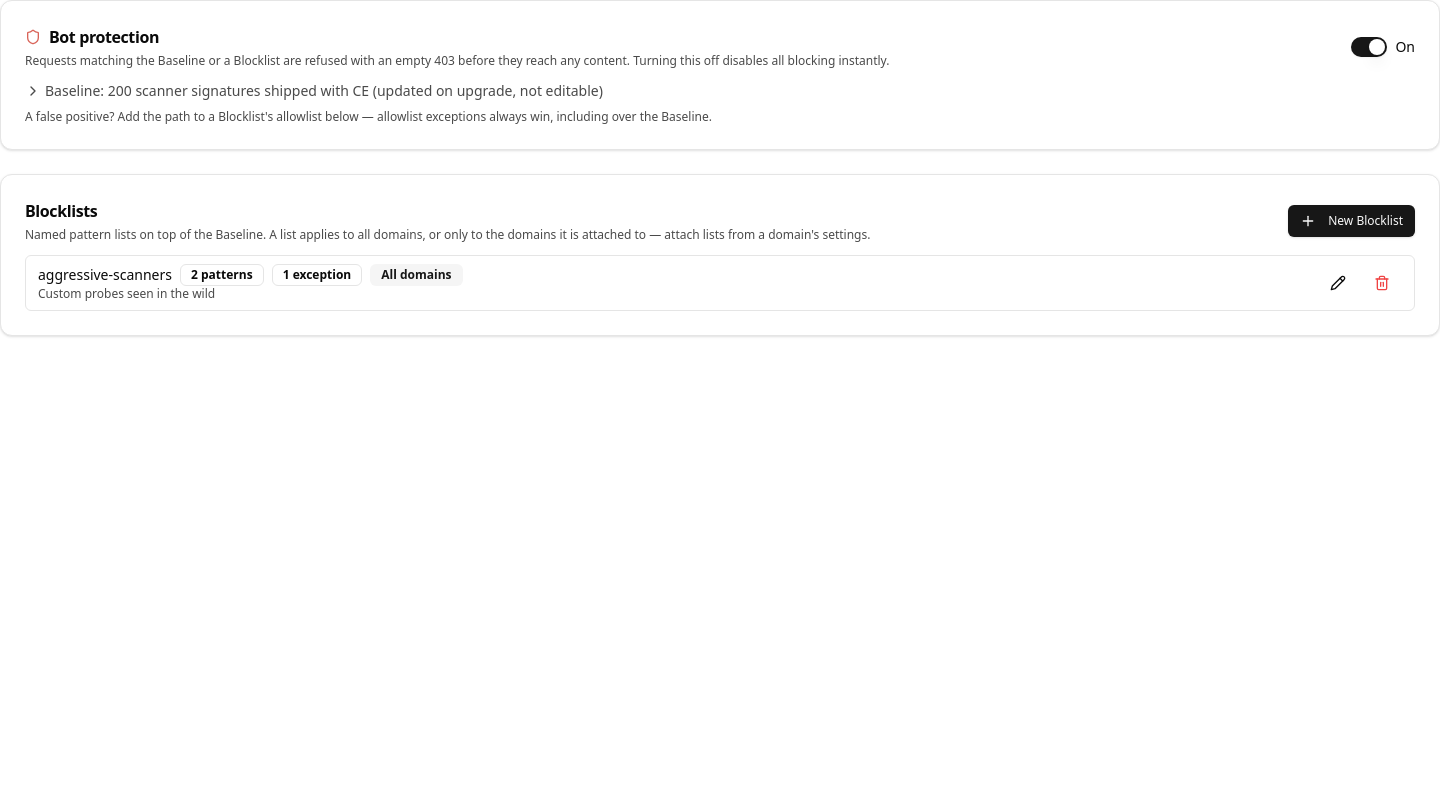
it: TrafficBlocklistTab › pre-fills the editor with the existing patterns when editing
This screenshot has width=1440, height=793.
Click the button named "Edit aggressive-scanners".
click(1338, 283)  # box x1=1318 y1=267 x2=1358 y2=299
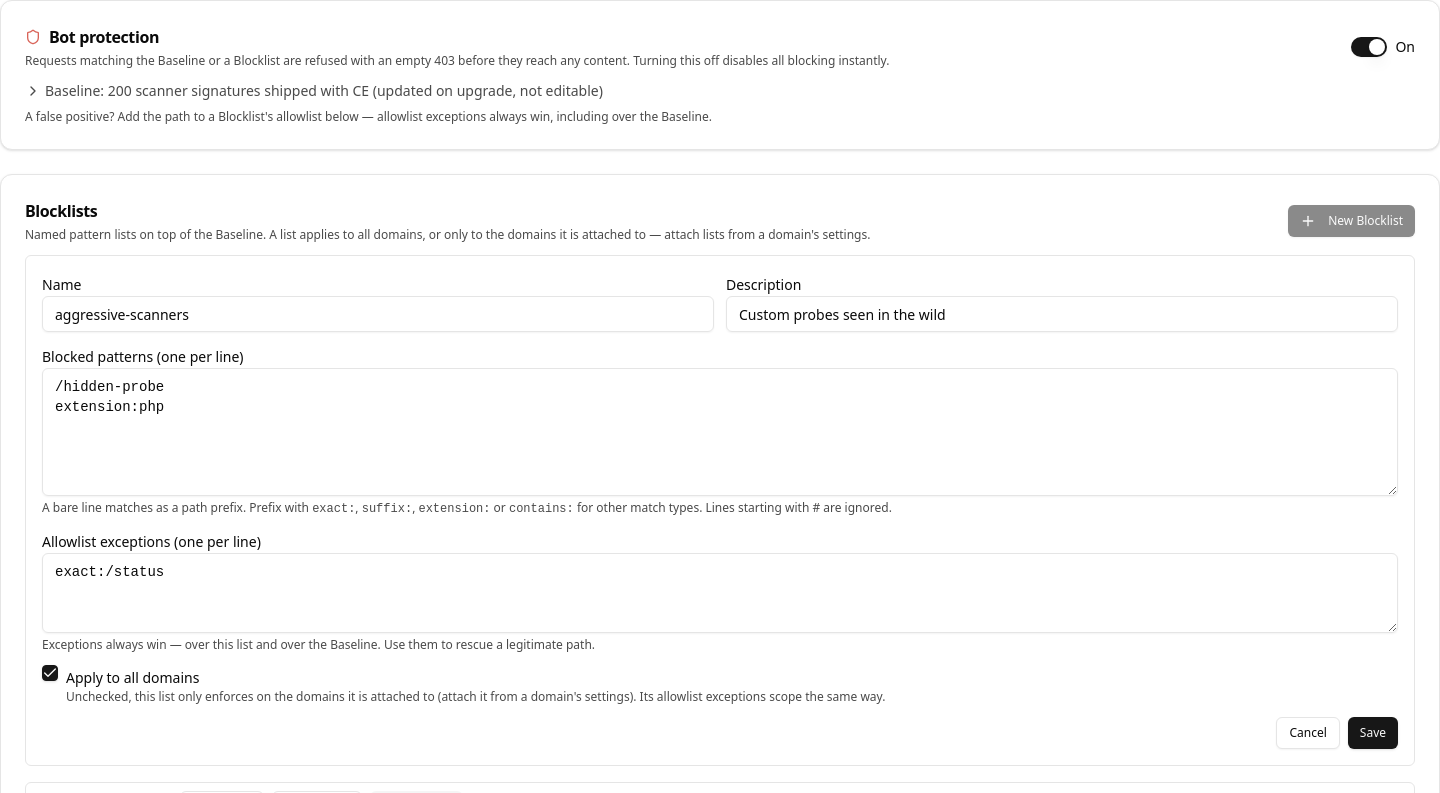
expect the text box labelled "Allowlist exceptions (one per line)" holds "exact:/status": met, box x1=42 y1=553 x2=1398 y2=633
